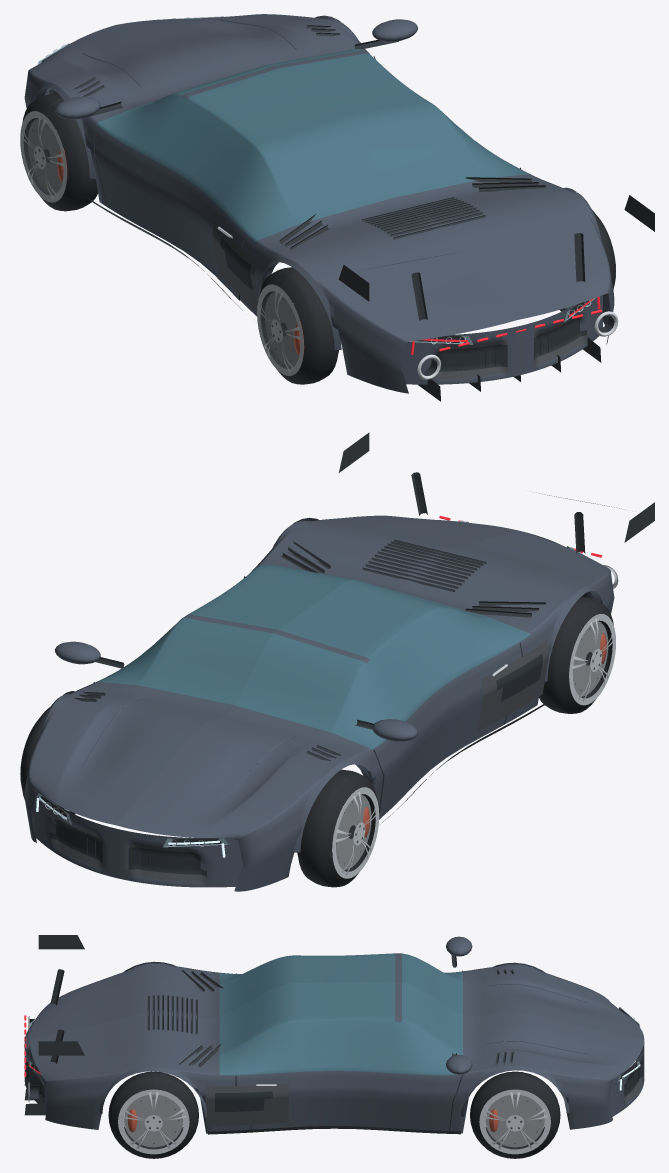
File: phantom_x_medium.glb
3 views of the same model, one above another, from view 1: azimuth 30°, elevation 25°; view 2: azimuth 150°, elevation 25°; view 3: azimuth 270°, elevation 25° (orthographic). The views are drawn at different scales.
Visible parts, largest first — view 1: Body, Wheel_2, Wheel_0; view 2: Body, Wheel_0, Wheel_2, Wheel_1; view 3: Body, Wheel_1, Wheel_3.
Boxes of the visible parts, x1,y1,x2,y2 form: Body: [24, 14, 654, 401]; Wheel_2: [257, 267, 338, 384]; Wheel_0: [20, 93, 97, 211]; Body: [24, 432, 654, 891]; Wheel_0: [297, 769, 379, 887]; Wheel_2: [539, 596, 615, 713]; Wheel_1: [20, 707, 75, 814]; Body: [24, 935, 644, 1134]; Wheel_1: [470, 1071, 560, 1158]; Wheel_3: [108, 1071, 198, 1158].
Bounding box in the file's own units: 2.52 × 1.08 × 5.09.
